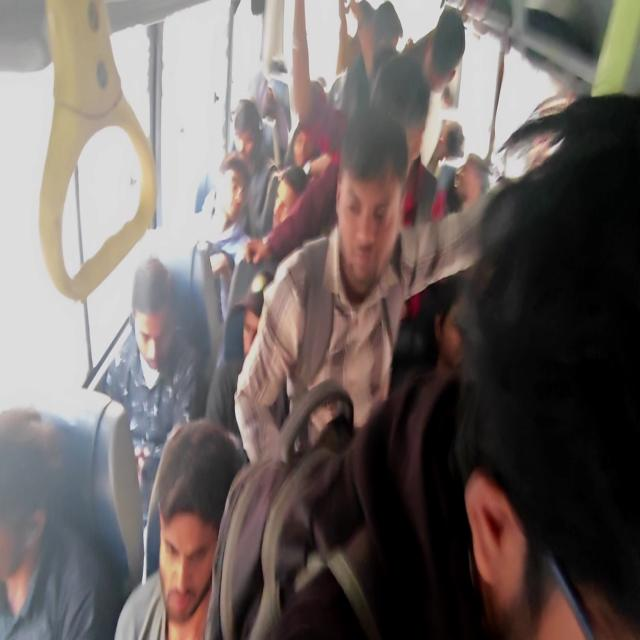person: (425, 182, 640, 578), (148, 420, 255, 640), (0, 402, 67, 610), (226, 291, 316, 416), (108, 272, 199, 394), (352, 149, 419, 257), (382, 72, 427, 156), (206, 159, 248, 236), (230, 105, 268, 178), (422, 25, 460, 89), (274, 170, 309, 238), (439, 120, 474, 184), (243, 71, 276, 121), (291, 122, 325, 170), (460, 164, 490, 213), (375, 4, 400, 49), (264, 56, 292, 88), (359, 13, 382, 43), (440, 80, 458, 112)
